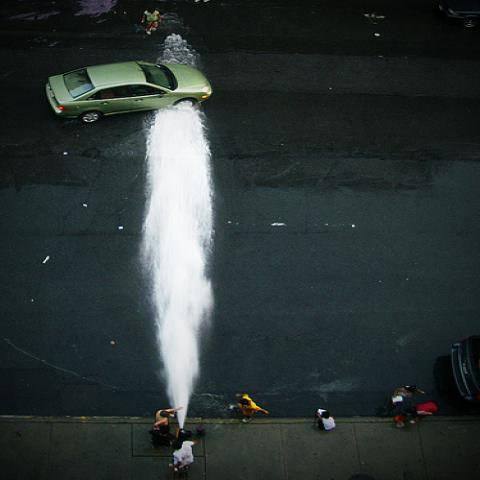car: (44, 63, 214, 123), (453, 333, 479, 406)
